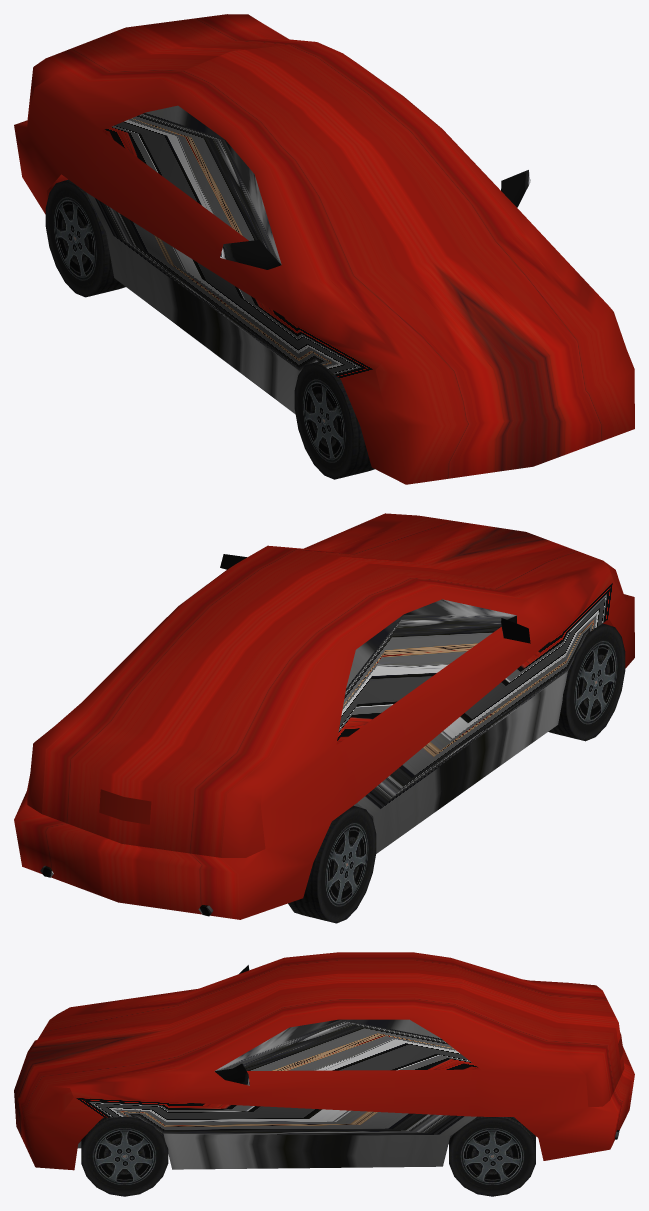
Rendered from car2.FBX.
3 renders of one model, top to bottom at view 1: azimuth 30°, elevation 25°; view 2: azimuth 150°, elevation 25°; view 3: azimuth 270°, elevation 25°, orthographic. The views are drawn at different scales.
Parts seen in each view (by area): view 1: car2 body, car2 wheel FR, car2 wheel RR; view 2: car2 body, car2 wheel RR, car2 wheel FR; view 3: car2 body, car2 wheel RL, car2 wheel FL.
Boxes of the visible parts, left/top/right/bottom form: car2 body: left=14, top=14, right=634, bottom=484; car2 wheel FR: left=294, top=361, right=374, bottom=479; car2 wheel RR: left=45, top=179, right=125, bottom=297; car2 body: left=14, top=513, right=634, bottom=919; car2 wheel RR: left=288, top=805, right=376, bottom=923; car2 wheel FR: left=548, top=623, right=625, bottom=741; car2 body: left=14, top=952, right=634, bottom=1170; car2 wheel RL: left=449, top=1116, right=535, bottom=1196; car2 wheel FL: left=81, top=1116, right=168, bottom=1196.
Size of the model in its own units: 82.6 by 194 by 58.74.
